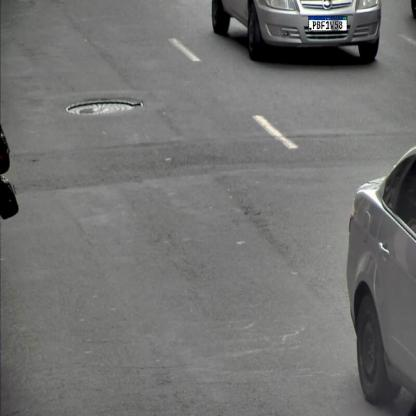PlacaM: (308, 16, 348, 31)
